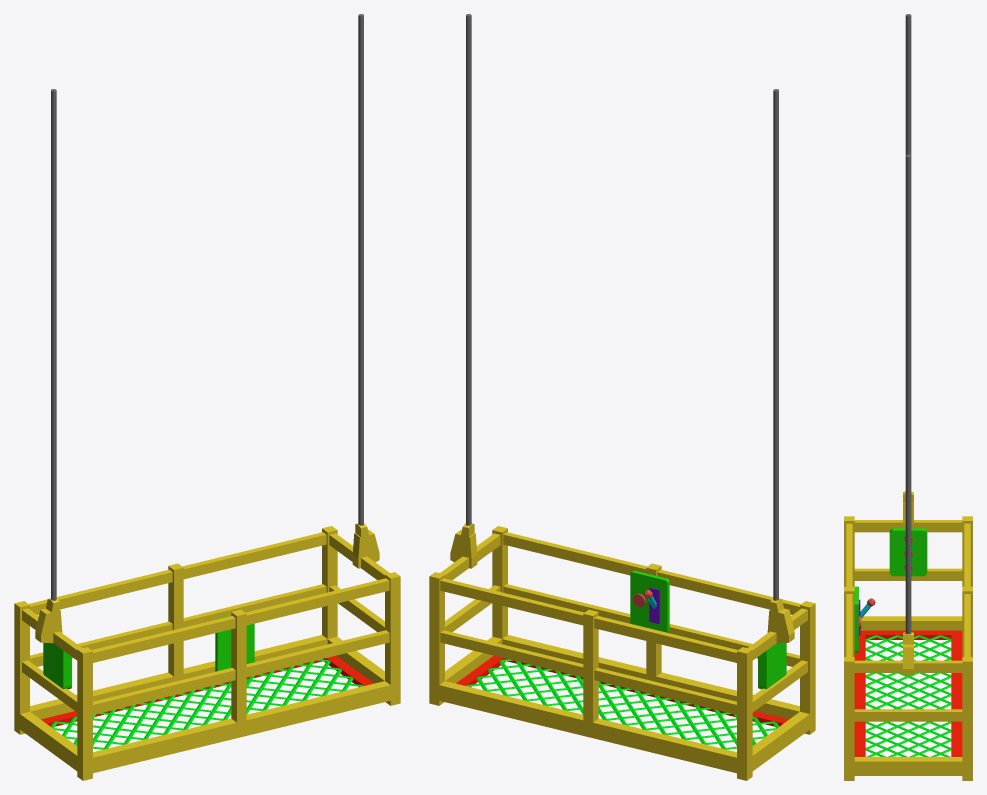
The model's file is window cleaning gondola.fbx.
3 views of the same model, side by side, from view 1: azimuth 30°, elevation 25°; view 2: azimuth 150°, elevation 25°; view 3: azimuth 270°, elevation 25° (orthographic). The views are drawn at different scales.
Parts seen in each view (by area): view 1: gondola, strings, Plane, buttonpad1, buttonpad2; view 2: gondola, strings, Plane, buttonpad2, buttonpad1; view 3: gondola, Plane, strings, buttonpad1, buttonpad2.
Part boxes in pixels (x1=…): gondola: x1=14, y1=523, x2=400, y2=780; strings: x1=51, y1=14, x2=363, y2=600; Plane: x1=50, y1=659, x2=363, y2=749; buttonpad1: x1=43, y1=643, x2=71, y2=689; buttonpad2: x1=215, y1=611, x2=254, y2=671; gondola: x1=429, y1=523, x2=815, y2=780; strings: x1=466, y1=14, x2=778, y2=600; Plane: x1=466, y1=659, x2=779, y2=749; buttonpad2: x1=630, y1=570, x2=669, y2=632; buttonpad1: x1=758, y1=643, x2=786, y2=689; gondola: x1=844, y1=491, x2=972, y2=780; Plane: x1=865, y1=635, x2=951, y2=756; strings: x1=905, y1=14, x2=911, y2=633; buttonpad1: x1=889, y1=528, x2=927, y2=576; buttonpad2: x1=854, y1=586, x2=875, y2=652.
Size of the model in its own units: 341 by 640 by 120.
